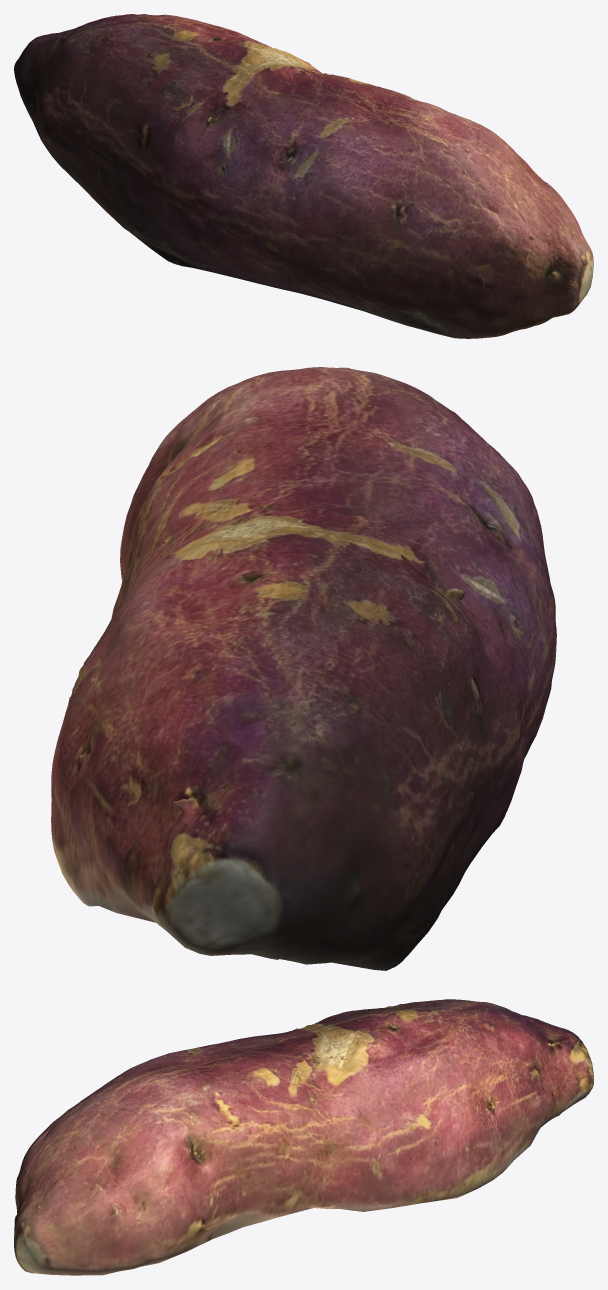
3 renders of one model, top to bottom at view 1: azimuth 30°, elevation 25°; view 2: azimuth 150°, elevation 25°; view 3: azimuth 270°, elevation 25°, orthographic. The views are drawn at different scales.
Parts seen in each view (by area): view 1: baked_mesh_ab3dea92; view 2: baked_mesh_ab3dea92; view 3: baked_mesh_ab3dea92.
Part boxes in pixels (<box>): baked_mesh_ab3dea92: <box>14,14,593,338</box>; baked_mesh_ab3dea92: <box>51,367,556,970</box>; baked_mesh_ab3dea92: <box>14,999,593,1275</box>.
Bounding box in the file's own units: 0.5392 × 0.3212 × 0.8636.
Materials: 1 (1 with a texture image).
